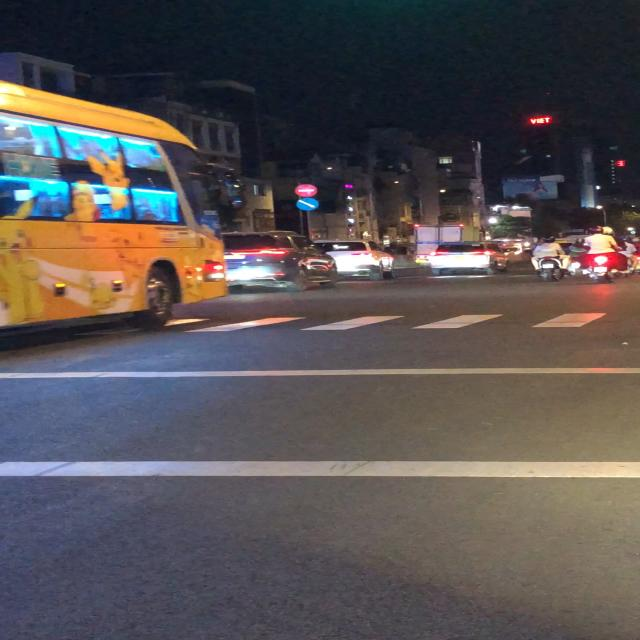Bien bao cam di nguoc chieu: (294, 183, 319, 197)
Bien bao huong phai di vong chuong ngai vat: (294, 198, 322, 211)
